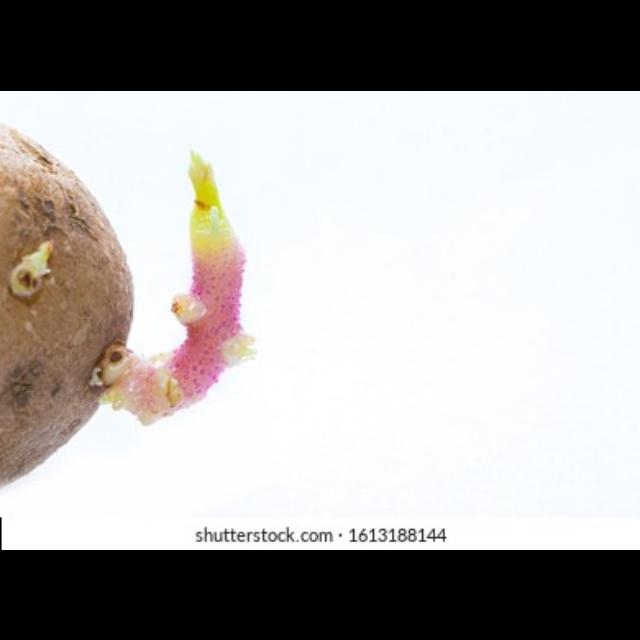Sprouted potato: (1, 99, 266, 501)
